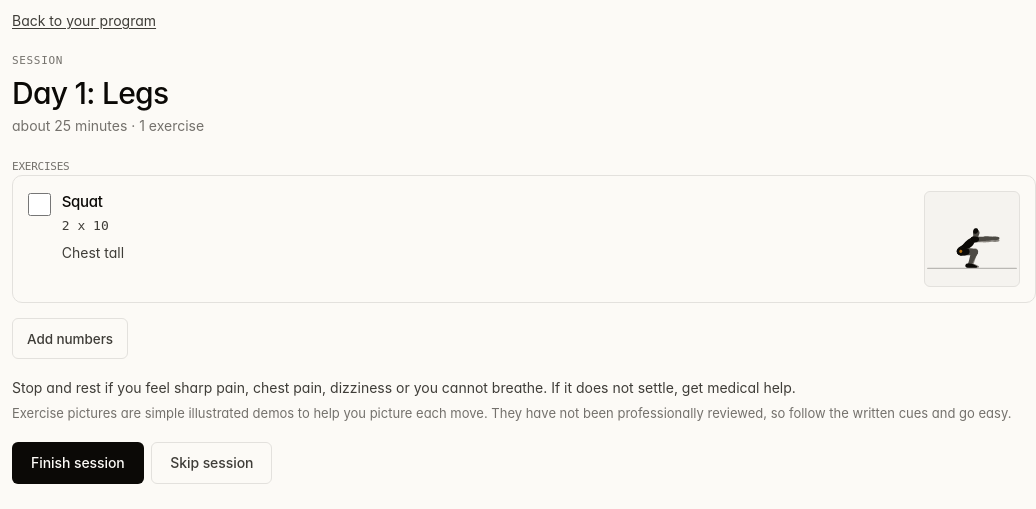
StarterSession › finishes a session and says so
Click the button "Finish session" at [78, 462], box [12,442,144,484]
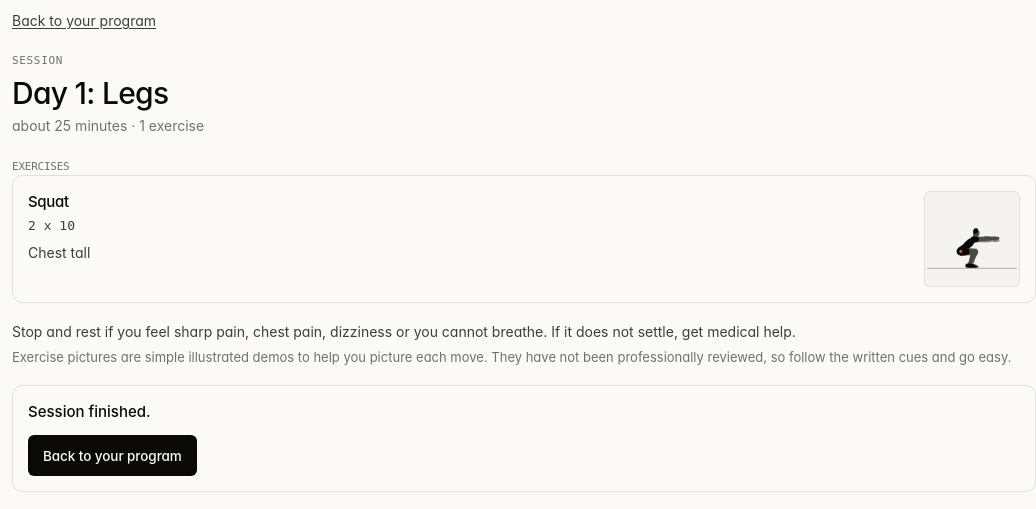
Now the text "Session finished." is shown, box [28,402,151,421]
